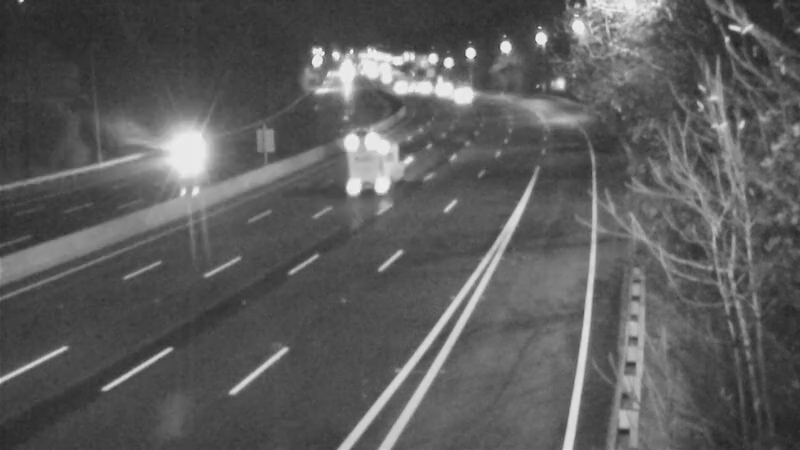vehicle: (330, 133, 410, 213), (143, 111, 223, 191), (399, 60, 449, 110), (415, 65, 465, 115), (440, 69, 490, 119), (336, 112, 386, 162)
